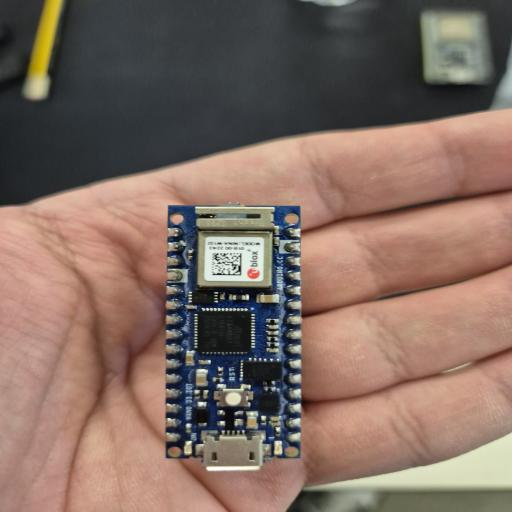arduino-nano-iot-33: (166, 203, 302, 470)
